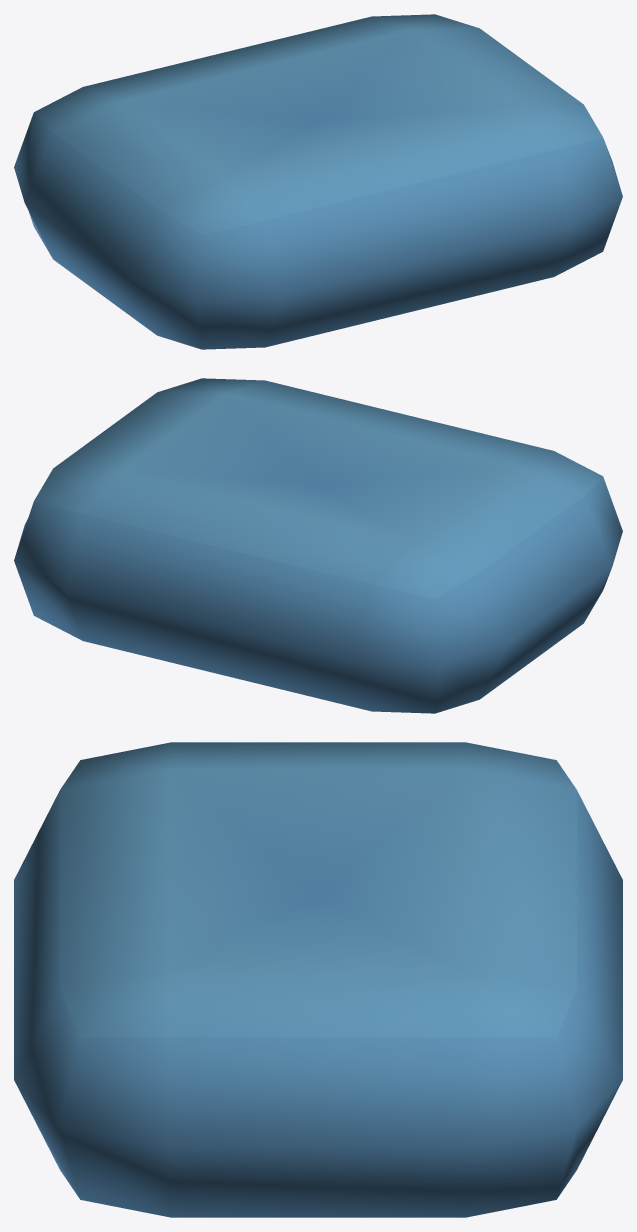
File: pillow-b.glb
3 renders of one model, top to bottom at view 1: azimuth 30°, elevation 25°; view 2: azimuth 150°, elevation 25°; view 3: azimuth 270°, elevation 25°, orthographic. The views are drawn at different scales.
Parts seen in each view (by area): view 1: pillow_B; view 2: pillow_B; view 3: pillow_B.
Boxes of the visible parts, x1=… form: pillow_B: x1=14, y1=14, x2=622, y2=349; pillow_B: x1=14, y1=378, x2=622, y2=713; pillow_B: x1=14, y1=742, x2=622, y2=1217.
Bounding box in the file's own units: 0.65 × 0.2 × 0.5.
